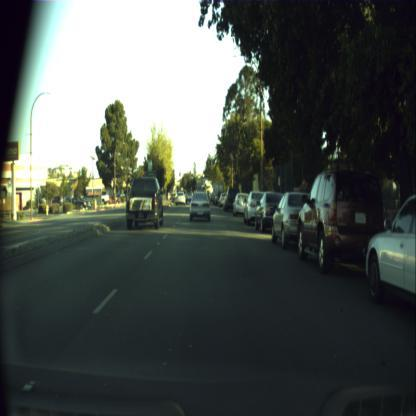Green: (191, 174, 193, 178)
